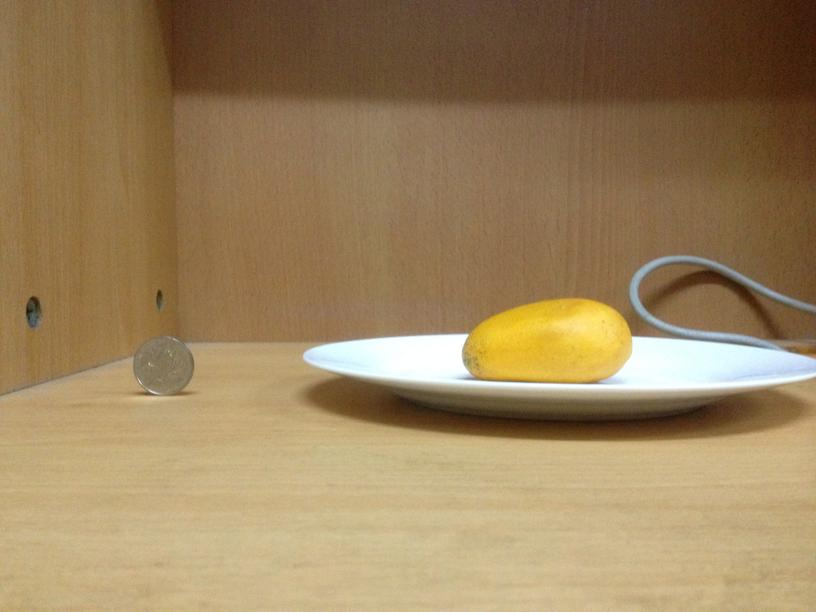coin: (132, 332, 193, 395)
mango: (459, 299, 630, 381)
